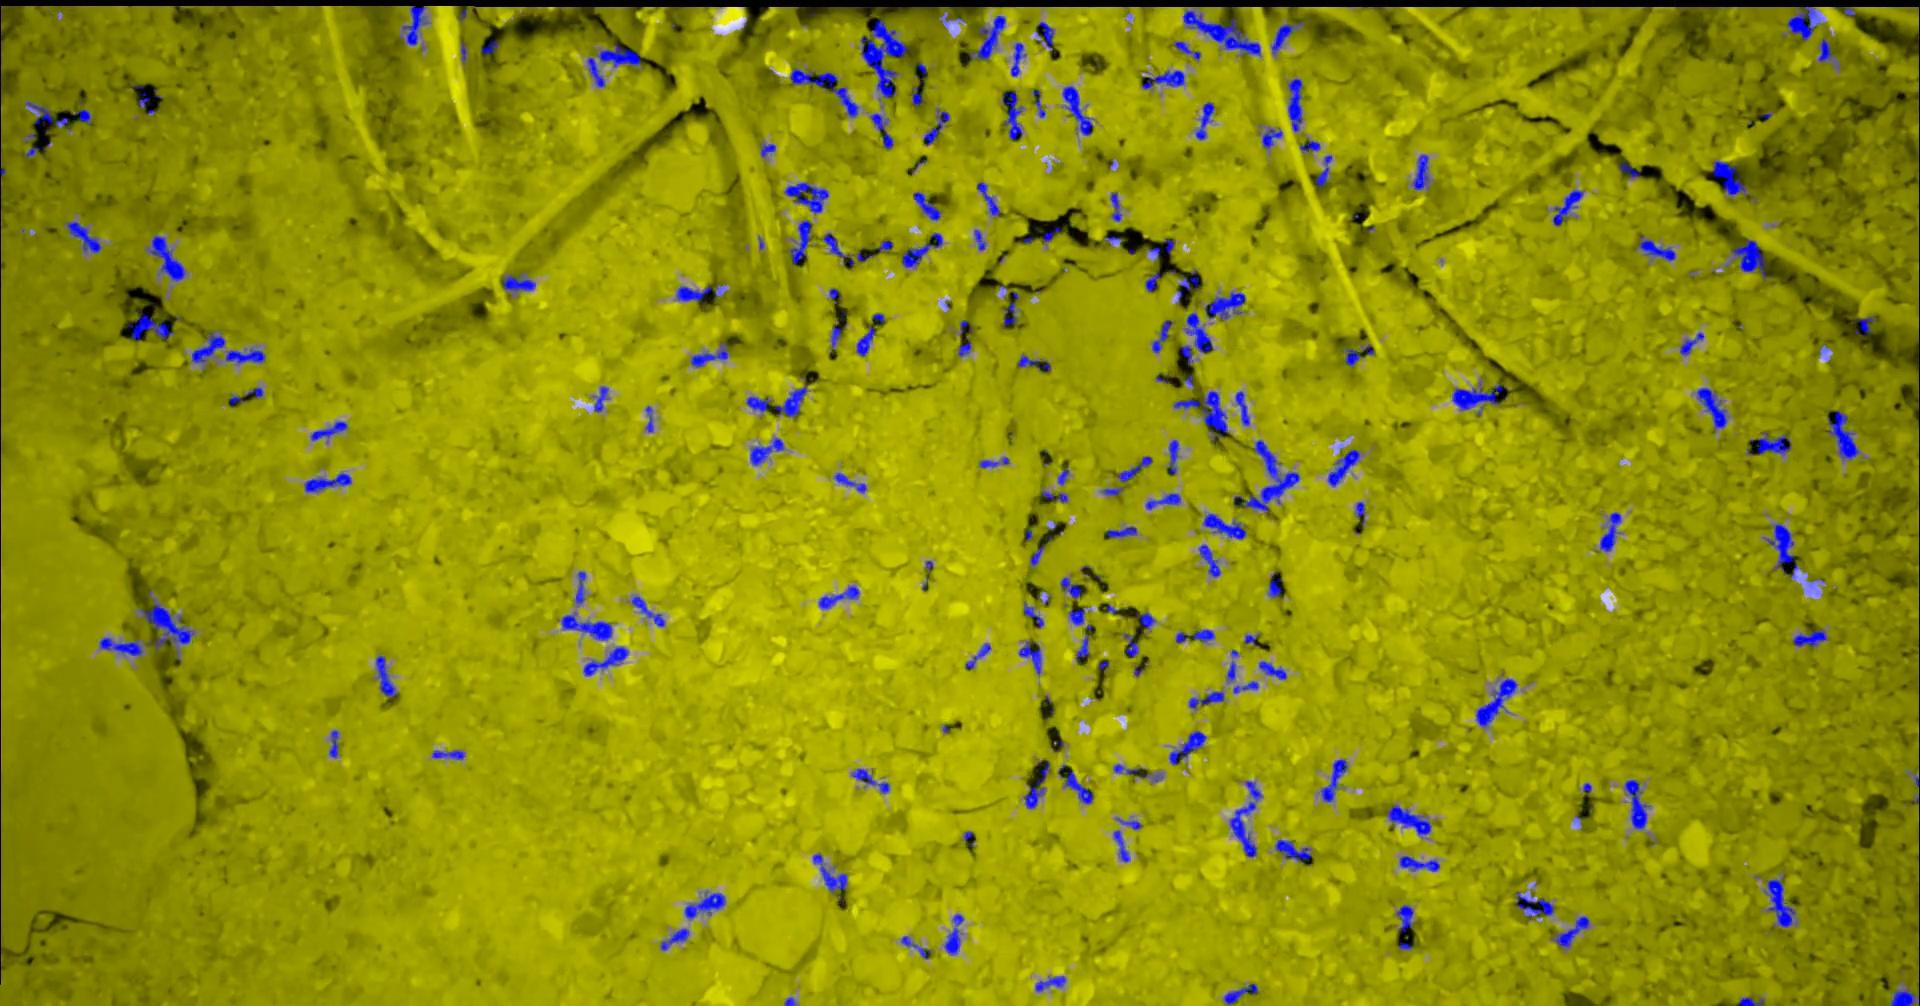ant: (789, 69, 858, 117), (138, 600, 193, 650), (1173, 391, 1228, 441), (1229, 781, 1261, 856), (1476, 678, 1516, 727), (147, 235, 185, 281), (1763, 876, 1796, 927), (968, 15, 1004, 58), (1827, 410, 1859, 460), (822, 232, 869, 265), (1731, 239, 1768, 279), (1062, 86, 1092, 135), (1764, 523, 1794, 572), (783, 182, 828, 213), (1057, 763, 1092, 803), (902, 232, 942, 267), (127, 310, 173, 340), (1385, 804, 1431, 835), (561, 612, 611, 640), (1451, 384, 1503, 409), (583, 647, 629, 674), (811, 854, 846, 890), (1697, 387, 1726, 431), (1168, 730, 1206, 763), (1624, 779, 1650, 828), (1023, 760, 1049, 808), (1710, 160, 1745, 196), (1327, 448, 1359, 486), (684, 890, 725, 920), (1785, 5, 1818, 39), (1270, 22, 1305, 53), (1552, 189, 1583, 225), (1553, 916, 1589, 948), (65, 221, 102, 251), (1321, 760, 1347, 801), (399, 5, 427, 44), (775, 384, 808, 417), (1204, 292, 1244, 319), (1203, 513, 1244, 539), (1185, 312, 1211, 352), (1515, 890, 1554, 917), (190, 332, 223, 363), (789, 220, 811, 265), (25, 102, 69, 126), (631, 596, 664, 626), (597, 43, 640, 66), (922, 108, 949, 145), (1002, 91, 1022, 140), (375, 655, 397, 697), (1638, 235, 1675, 260), (1750, 431, 1790, 453), (818, 586, 858, 608), (750, 437, 783, 465), (690, 342, 728, 366), (851, 768, 889, 793), (303, 473, 350, 492), (1117, 456, 1152, 481), (1599, 512, 1620, 551), (1274, 840, 1310, 862), (99, 636, 142, 655), (912, 191, 940, 220), (869, 113, 891, 149), (1142, 70, 1183, 89), (977, 182, 999, 215), (1197, 544, 1220, 577), (1018, 641, 1041, 674), (1288, 77, 1302, 131), (1223, 983, 1257, 1005), (943, 915, 963, 953), (1176, 269, 1197, 302), (1195, 102, 1214, 138), (310, 420, 347, 439), (676, 285, 717, 301), (965, 643, 990, 669), (900, 935, 930, 958), (1399, 855, 1439, 871), (1150, 320, 1171, 352), (833, 473, 866, 492), (225, 348, 265, 363), (1792, 629, 1826, 647), (856, 324, 875, 356), (660, 929, 688, 950), (1412, 154, 1429, 189), (1145, 493, 1180, 509), (1189, 691, 1223, 708), (1679, 332, 1703, 354), (502, 274, 535, 291), (1017, 354, 1050, 371), (1396, 904, 1413, 935), (1258, 661, 1286, 680), (1112, 829, 1129, 861), (1010, 42, 1025, 76), (1003, 291, 1018, 325), (1035, 22, 1053, 51), (587, 57, 604, 86), (1173, 41, 1200, 60), (1175, 629, 1214, 641), (1236, 390, 1250, 426), (1316, 155, 1331, 187), (1023, 602, 1043, 627), (1035, 976, 1065, 991), (131, 83, 149, 108), (1890, 989, 1919, 1005), (1261, 128, 1283, 149), (1060, 577, 1081, 598), (1341, 347, 1360, 367), (593, 386, 608, 412), (1853, 316, 1876, 333), (1076, 633, 1088, 662), (745, 396, 770, 412), (1105, 526, 1137, 537), (1032, 89, 1045, 117), (1267, 572, 1281, 597), (979, 456, 1010, 467), (1115, 817, 1142, 829), (1818, 37, 1832, 61), (1233, 680, 1257, 694), (1144, 271, 1161, 291), (1168, 439, 1178, 473), (1135, 611, 1156, 627), (430, 749, 463, 760), (1110, 192, 1121, 221), (1618, 161, 1639, 177), (575, 572, 585, 603), (1123, 633, 1137, 655), (1068, 606, 1084, 625), (1112, 763, 1143, 774), (1029, 545, 1043, 567), (830, 321, 841, 351), (72, 108, 91, 123), (1041, 490, 1067, 502), (480, 39, 498, 55), (1043, 226, 1060, 241), (328, 730, 338, 757), (1299, 140, 1319, 152), (957, 335, 970, 356), (974, 229, 985, 250), (1354, 500, 1364, 525), (910, 86, 923, 105), (1180, 345, 1192, 365), (1738, 996, 1763, 1005), (1225, 661, 1236, 681), (759, 144, 775, 156), (645, 405, 653, 431), (1243, 634, 1258, 647), (1101, 486, 1123, 495), (1057, 467, 1068, 484), (244, 387, 262, 398), (877, 239, 891, 251), (1163, 238, 1175, 253), (829, 288, 841, 304)
